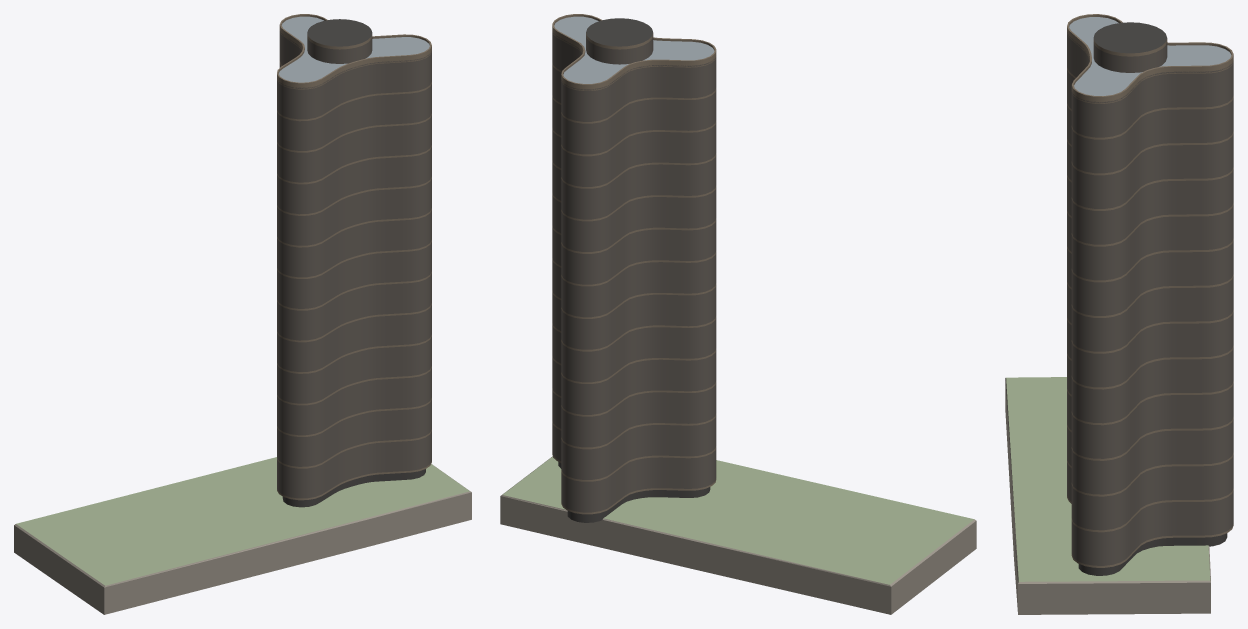
The model's file is chi-lake-point-tower.glb.
3 views of the same model, side by side, from view 1: azimuth 30°, elevation 25°; view 2: azimuth 150°, elevation 25°; view 3: azimuth 270°, elevation 25° (orthographic). The views are drawn at different scales.
Visible parts, largest first — view 1: Lake Point Tower; view 2: Lake Point Tower; view 3: Lake Point Tower.
Part boxes in pixels (left/top/right/bottom): Lake Point Tower: left=14, top=14, right=471, bottom=614; Lake Point Tower: left=500, top=14, right=976, bottom=614; Lake Point Tower: left=1005, top=14, right=1233, bottom=614.
Bounding box in the file's own units: 166 × 198 × 76.89.
